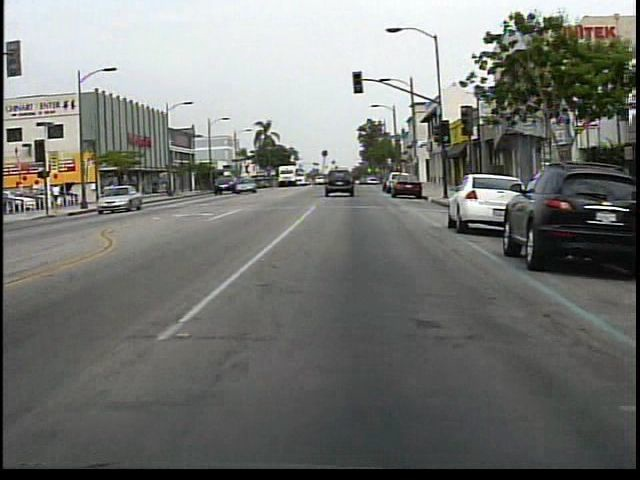person: (53, 182, 65, 211)
